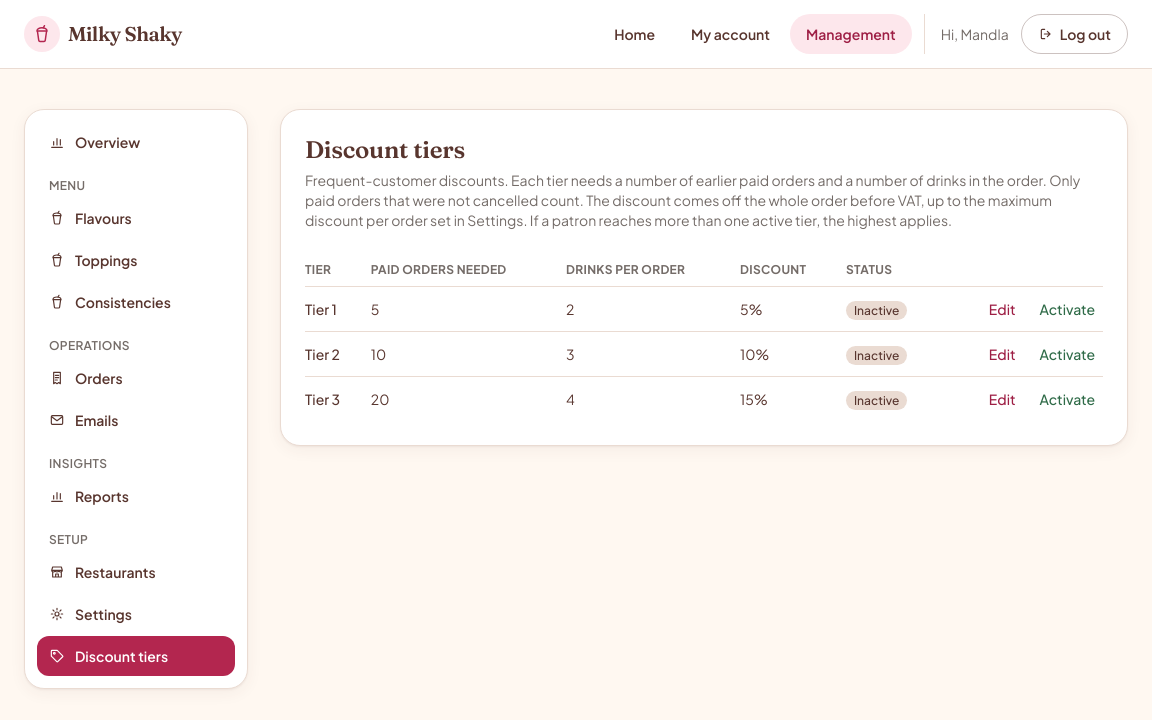
discount tier management › activates a tier after confirmation and shows it as active
Click the button with aria-label "Activate tier 1" at point(1067, 309), box [1032, 295, 1103, 323]
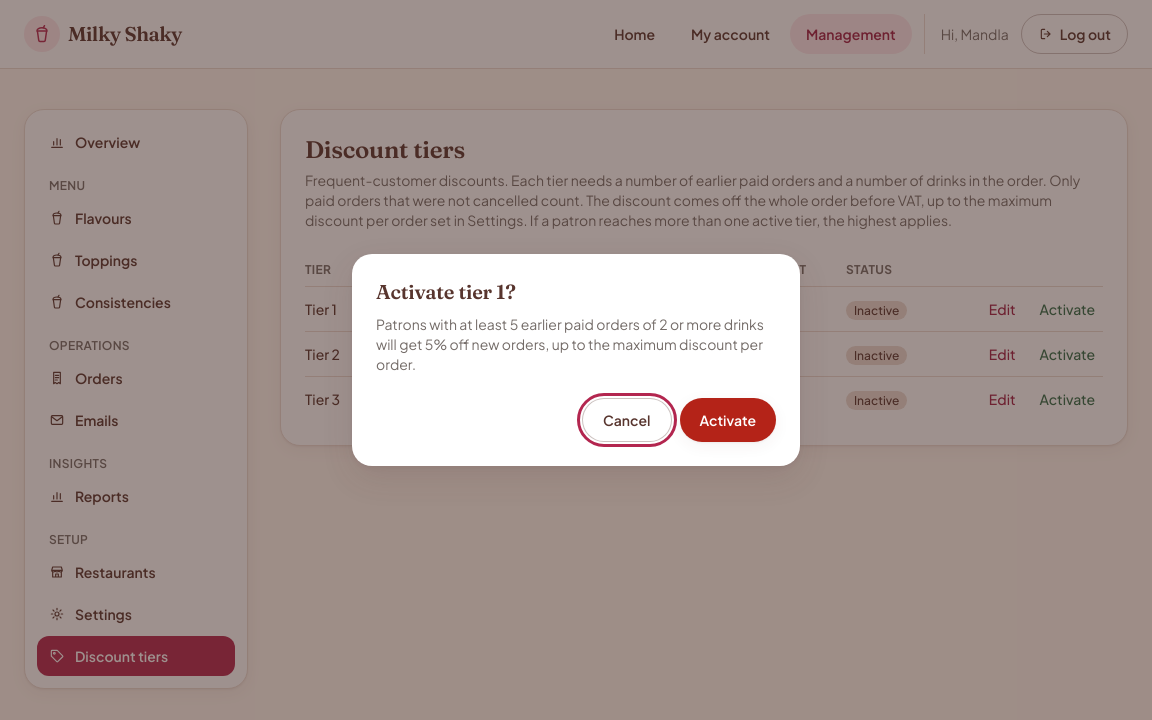
Click the button "Activate" at point(728, 420), box [680, 398, 776, 442]
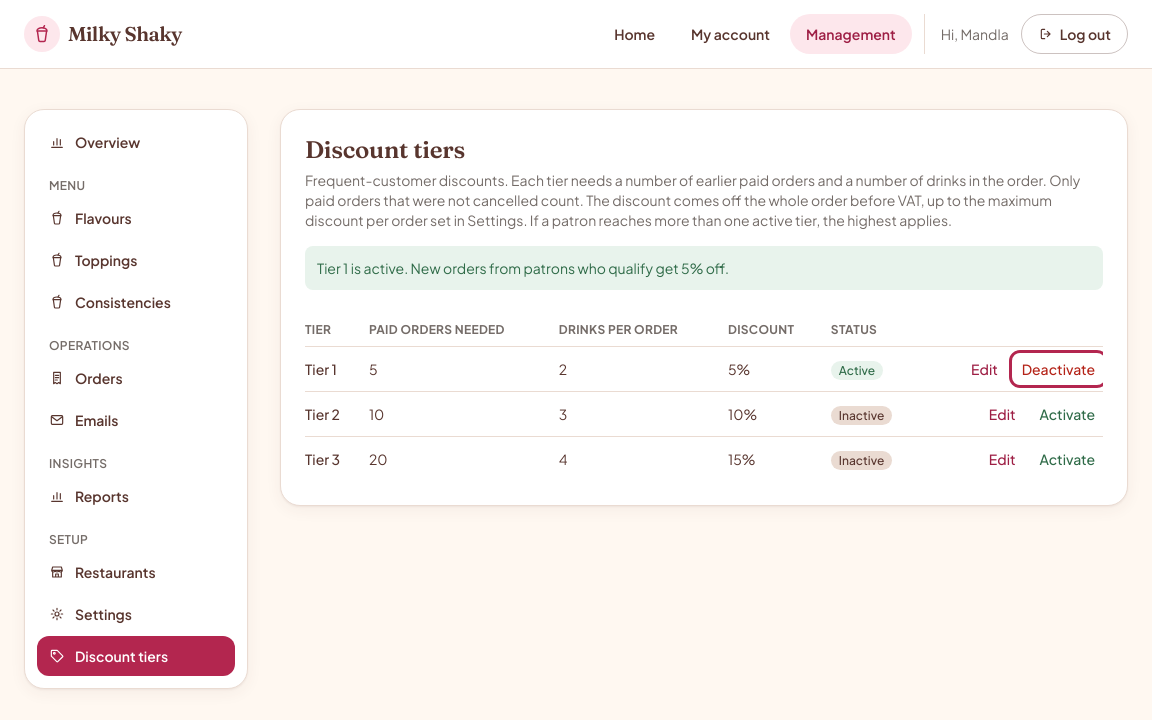
Expected: the text "Active" is shown, [831, 361, 883, 380]
Now the text "Tier 1 is active. New orders from patrons who qualify get 5% off." is shown, box [305, 246, 1103, 290]
